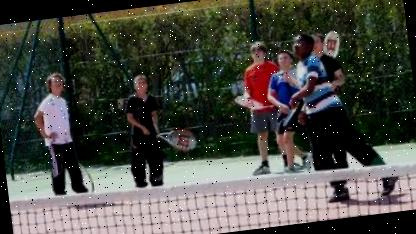person: (286, 29, 367, 183), (23, 65, 94, 204), (230, 39, 289, 180), (113, 69, 174, 196)
